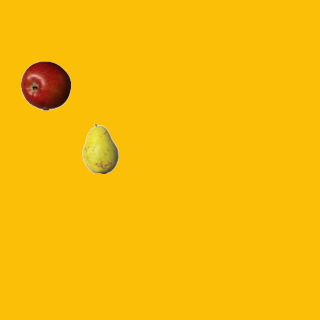Apple Braeburn: (20, 60, 70, 110)
Pear Monster: (75, 123, 125, 173)
